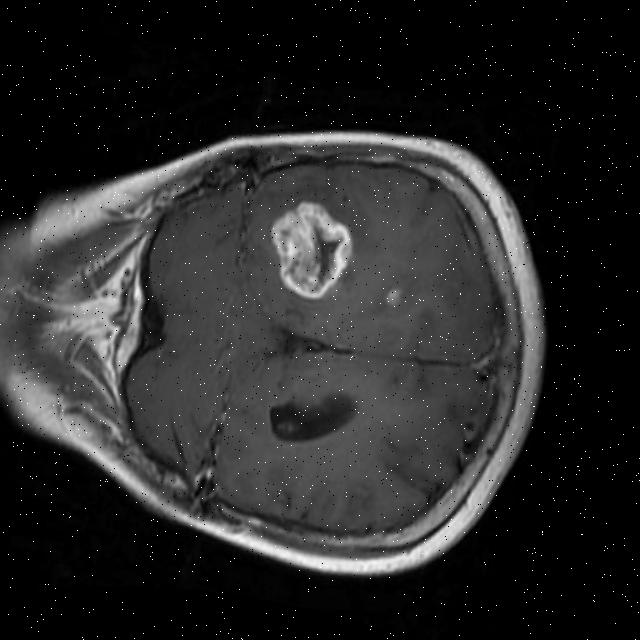Glioma: (258, 193, 357, 304)
